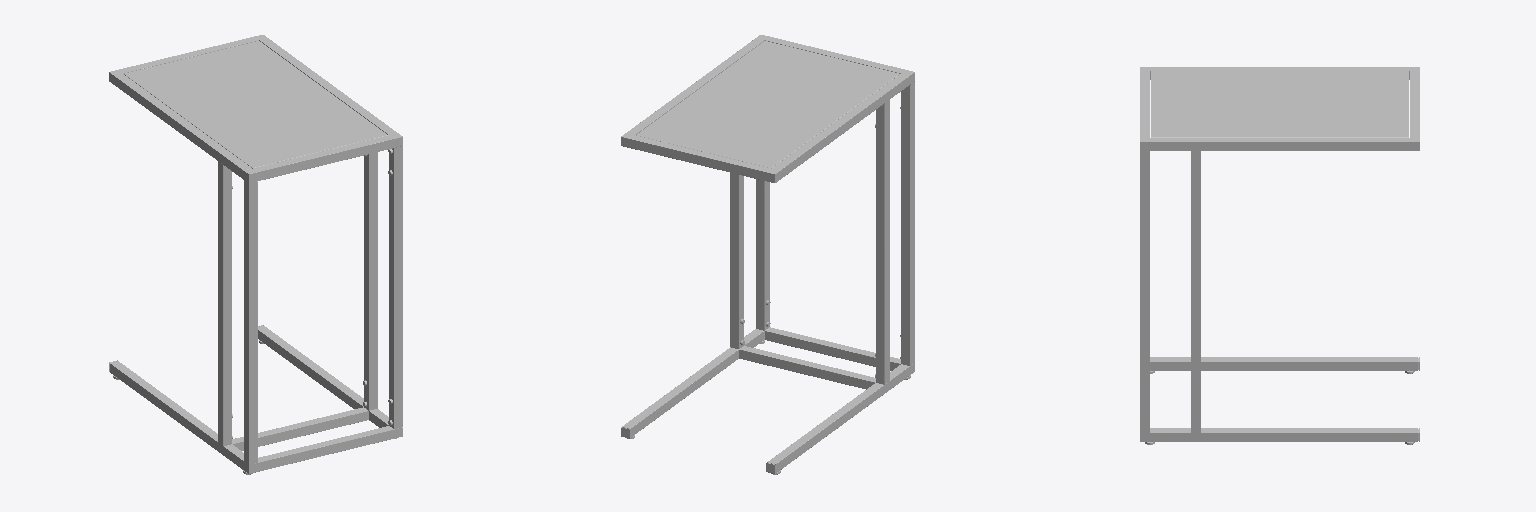
Rendered from Rack 6.obj.
3 views of the same model, side by side, from view 1: azimuth 30°, elevation 25°; view 2: azimuth 150°, elevation 25°; view 3: azimuth 270°, elevation 25° (orthographic).
Parts seen in each view (by area): view 1: Laptop_stand_Red; view 2: Laptop_stand_Red; view 3: Laptop_stand_Red.
Boxes of the visible parts, x1,y1,x2,y2 form: Laptop_stand_Red: [109, 35, 402, 474]; Laptop_stand_Red: [621, 35, 914, 474]; Laptop_stand_Red: [1140, 67, 1419, 444].
Bounding box in the file's own units: 350 × 658 × 550.